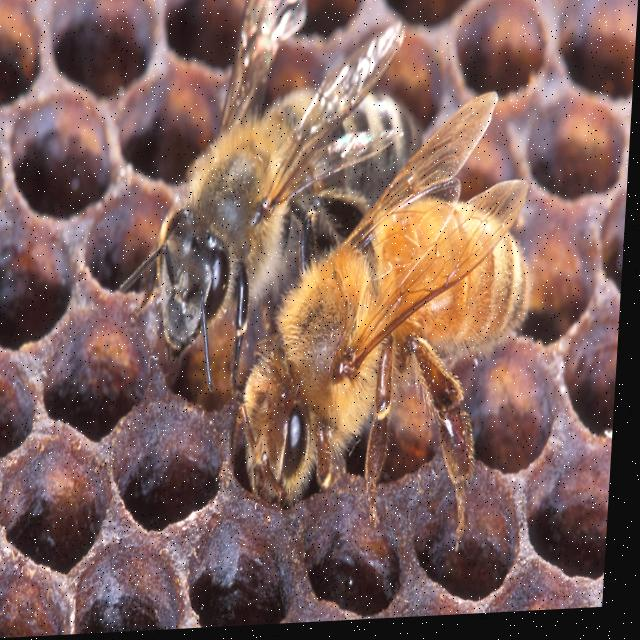Apis-mellifera-scutellata: (254, 103, 538, 553), (133, 0, 428, 371)
